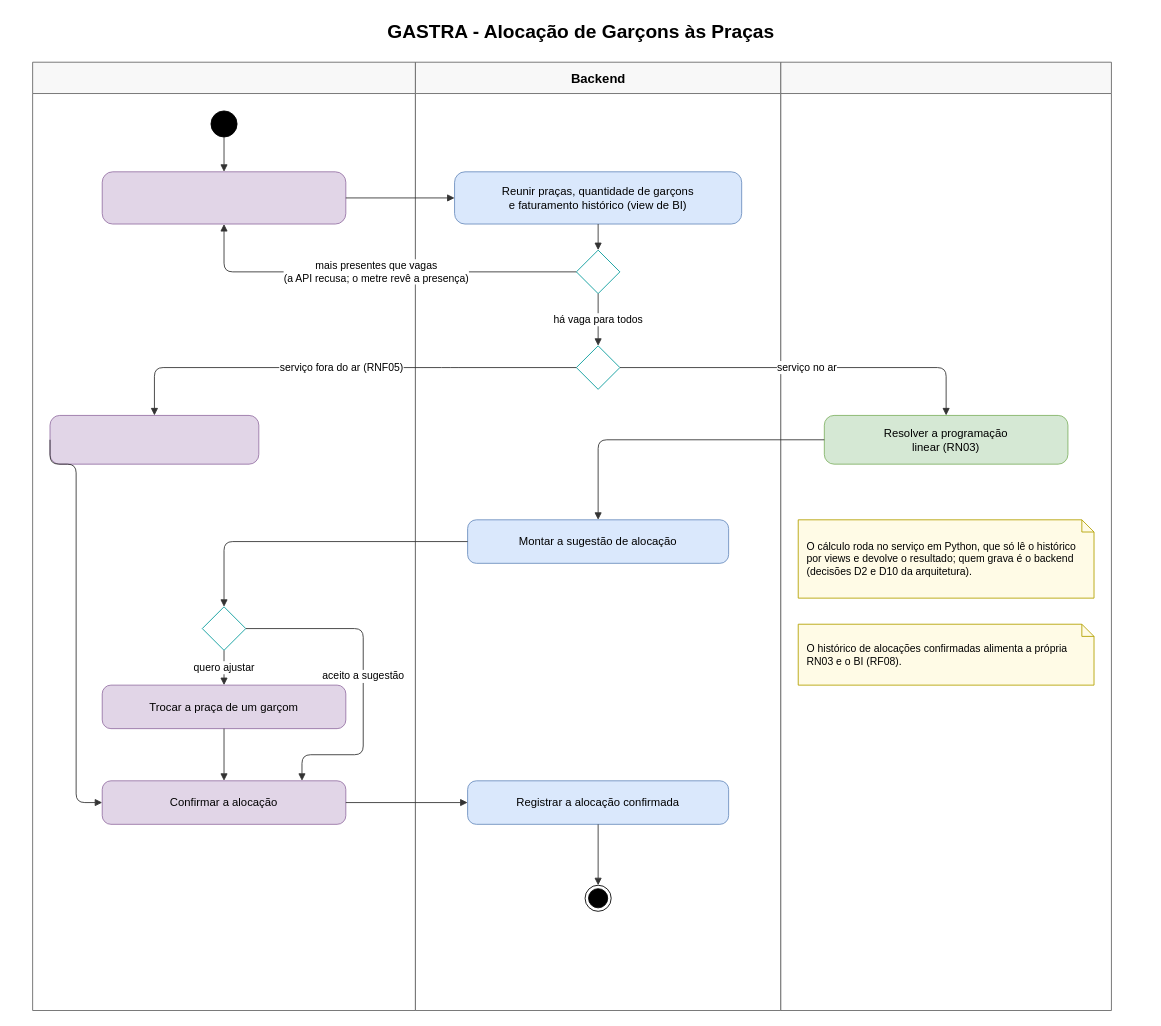
Some shapes in this 1161 by 1026 pixel diagram are drawn without their labels. The shapes that lost their labels are listed below. From the top down, each one's box as (x1, y1, x2, y2) in pixels, then its label:
(101, 171, 346, 224): Informar data, período e garçons presentes no turno
(49, 415, 259, 464): Distribuir as praças manualmente
(32, 61, 415, 1011): Metre
(780, 61, 1111, 1011): Serviço analítico (Python)
